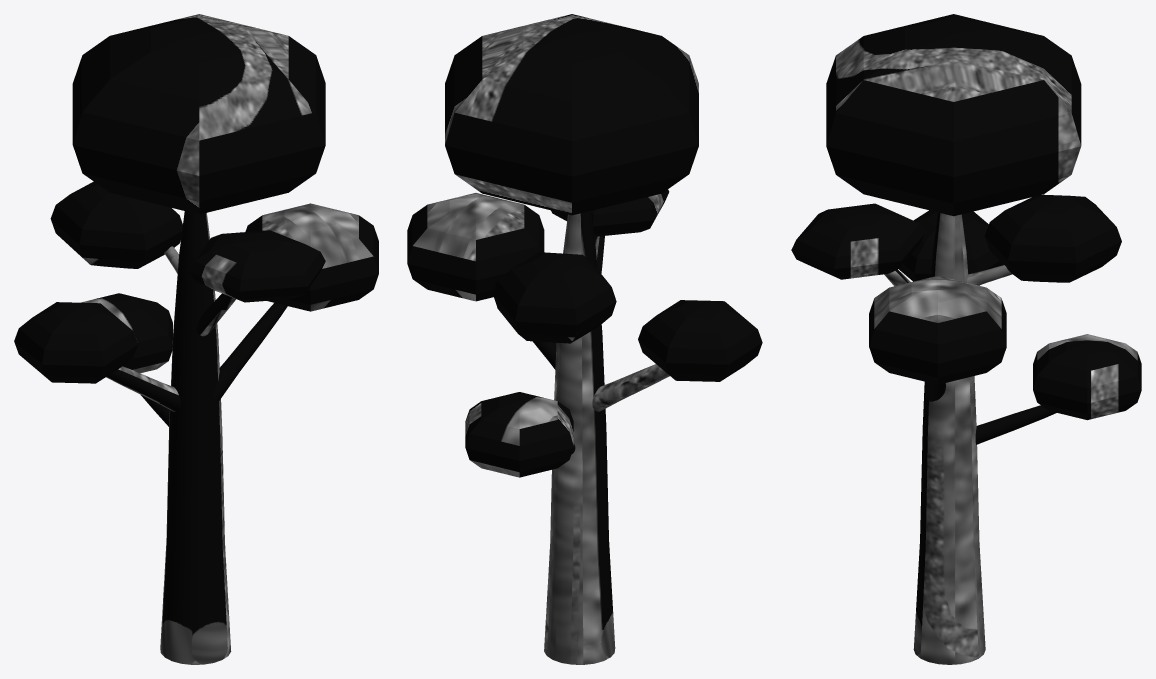
Rendered from arbol.fbx.
3 views of the same model, side by side, from view 1: azimuth 30°, elevation 25°; view 2: azimuth 150°, elevation 25°; view 3: azimuth 270°, elevation 25° (orthographic).
Parts seen in each view (by area): view 1: pCylinder7; view 2: pCylinder7; view 3: pCylinder7.
Part boxes in pixels (x1=…): pCylinder7: x1=14, y1=14, x2=378, y2=664; pCylinder7: x1=407, y1=14, x2=762, y2=664; pCylinder7: x1=791, y1=14, x2=1141, y2=664.
Size of the model in its own units: 4.66 by 7.9 by 4.06.
